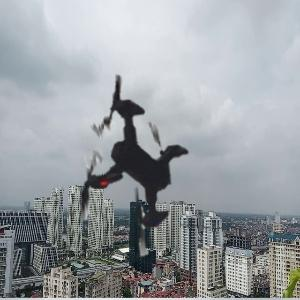drone: (4, 38, 260, 294)
